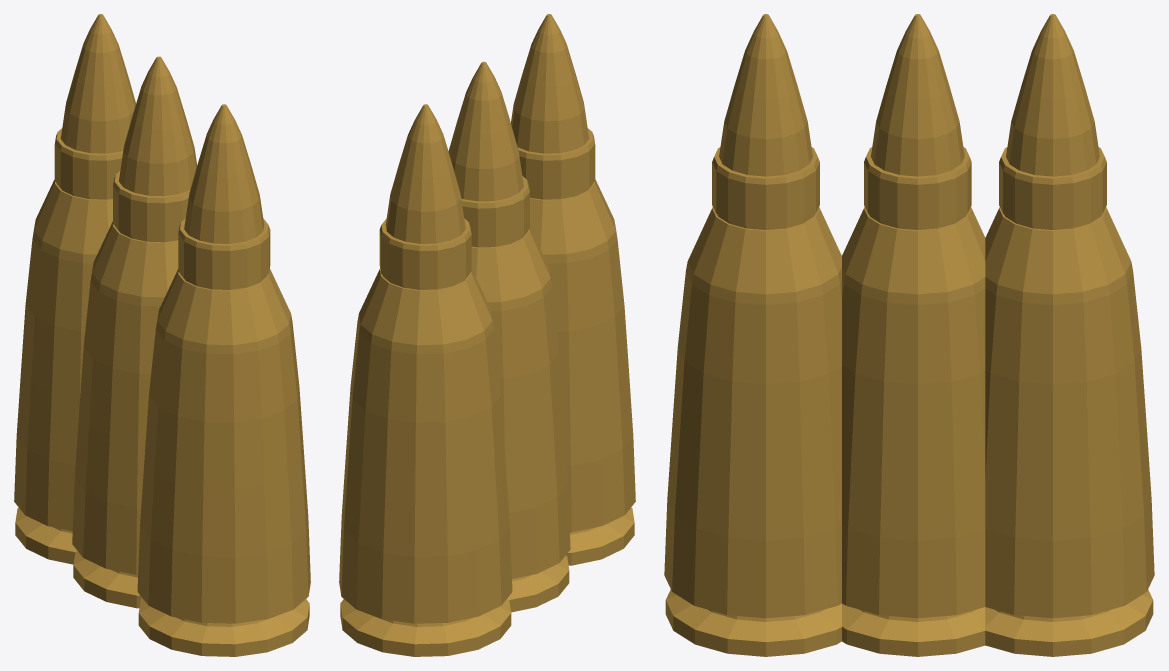
The model's file is Weapon Ammo Props.fbx_AR_Ammo.fbx.
3 renders of one model, left to right at view 1: azimuth 30°, elevation 25°; view 2: azimuth 150°, elevation 25°; view 3: azimuth 270°, elevation 25°, orthographic. The views are drawn at different scales.
Visible parts, largest first — view 1: AR Bullet.002, AR Bullet.001, AR Bullet; view 2: AR Bullet, AR Bullet.002, AR Bullet.001; view 3: AR Bullet.002, AR Bullet, AR Bullet.001.
Part boxes in pixels (x1,y1,x2,y2): AR Bullet.002: [137, 104, 310, 656]; AR Bullet.001: [72, 56, 197, 608]; AR Bullet: [14, 14, 135, 564]; AR Bullet: [339, 104, 512, 656]; AR Bullet.002: [511, 14, 635, 565]; AR Bullet.001: [448, 61, 570, 612]; AR Bullet.002: [664, 14, 841, 656]; AR Bullet: [985, 14, 1154, 656]; AR Bullet.001: [842, 14, 985, 656].
Size of the model in its own units: 85.81 by 279 by 207.
